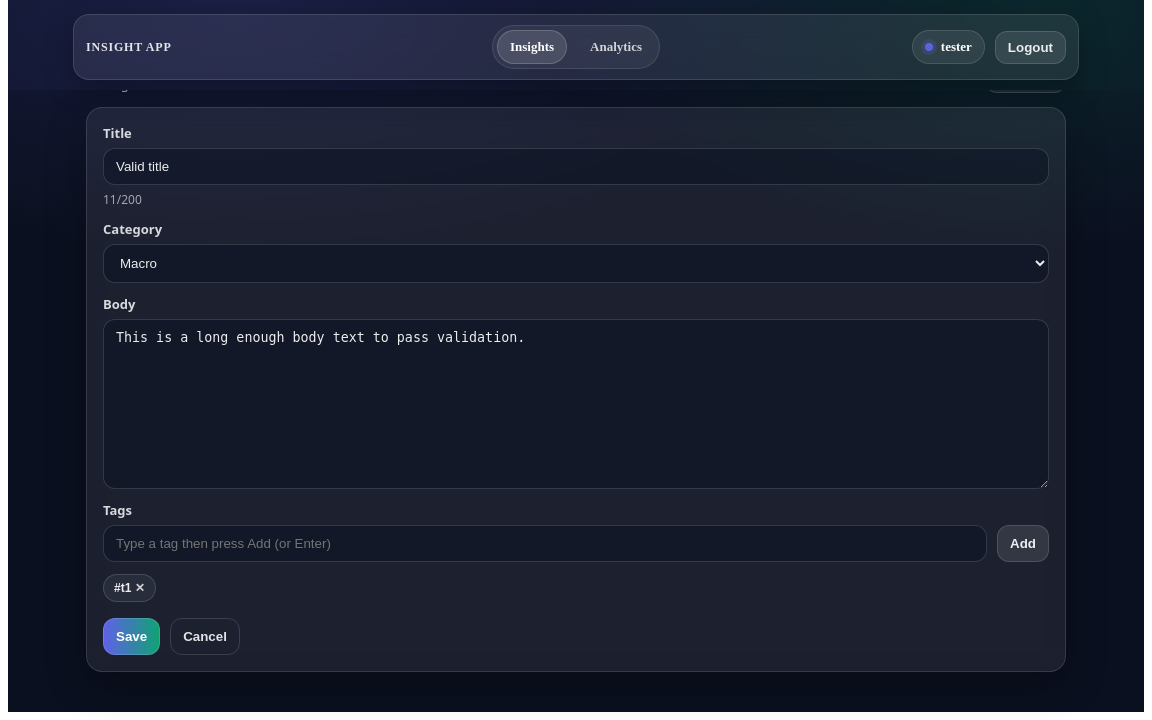
it: InsightEditPage › shows backend error + field errors on submit failure
The width and height of the screenshot is (1152, 720).
(page scrolled)
expect the heading "Edit Insight" is shown: met, box [86,33,289,71]
Click the button "Save": (132, 636) [103,618,160,655]
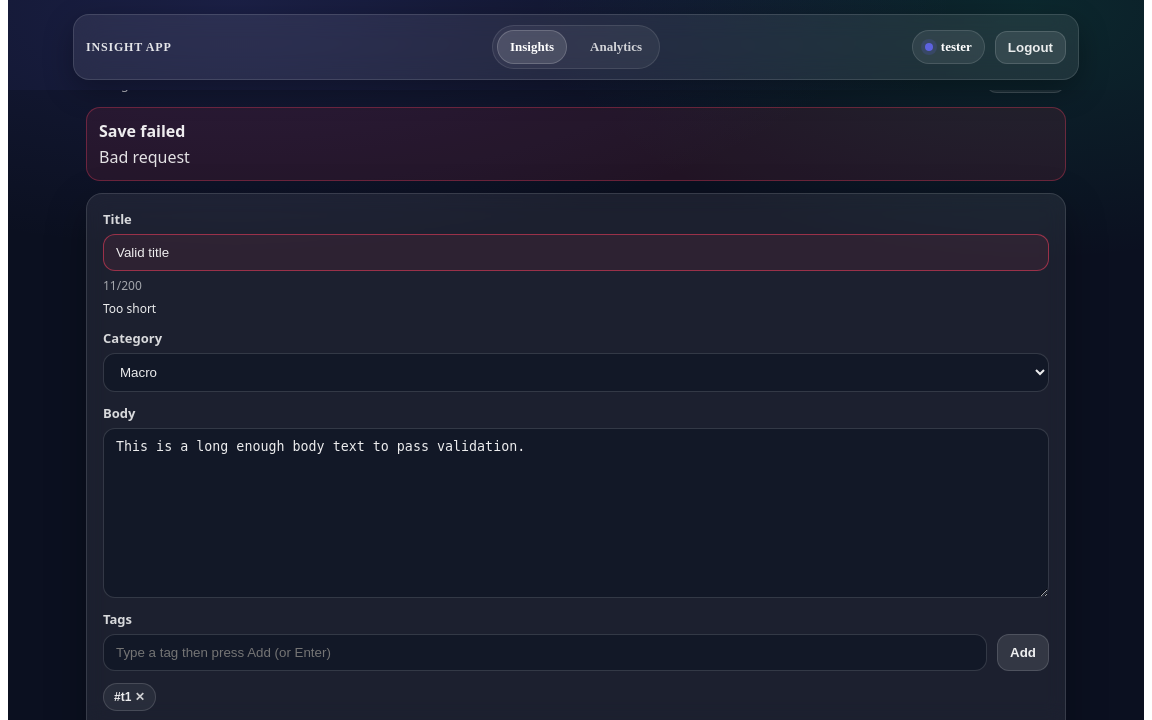
expect the text "Save failed" is shown: met, box [99,120,185,142]
expect the text "Bad request" is shown: met, box [99,146,190,168]
expect the text "Too short" is shown: met, box [103,300,156,317]
